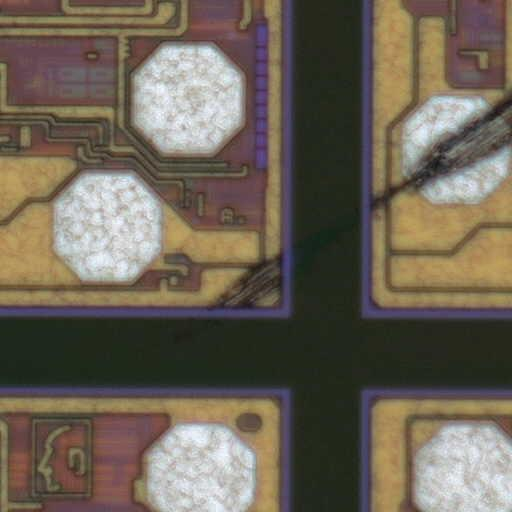SCRATCH: (148, 89, 512, 359)
